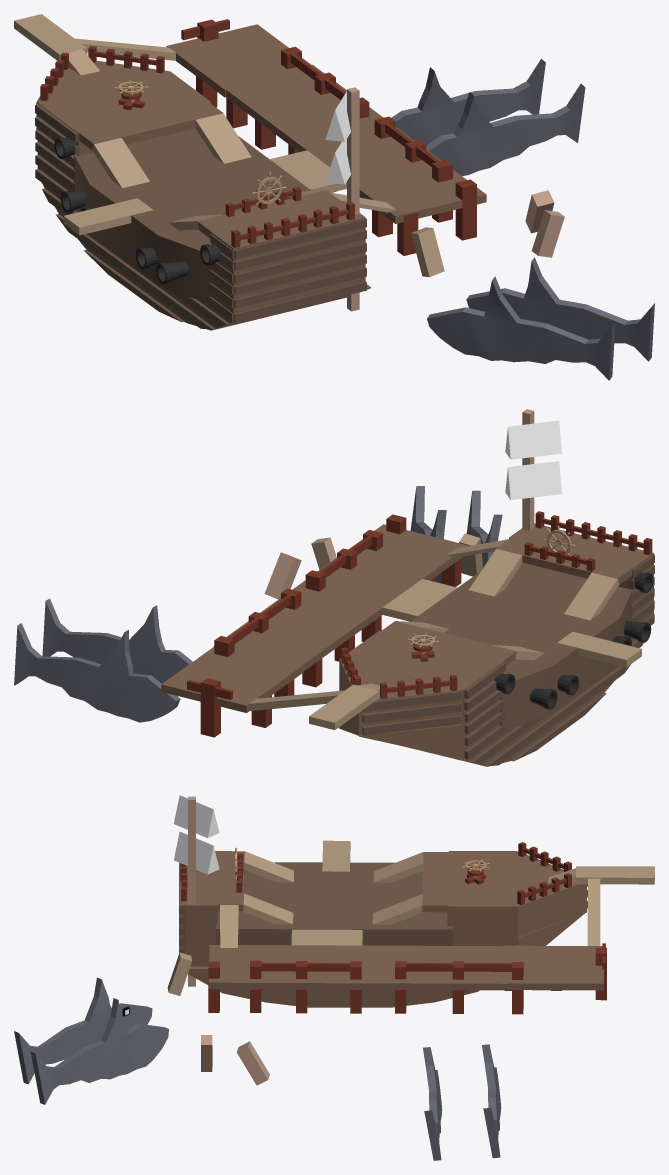
Rendered from Ship_New.fbx.
3 views of the same model, one above another, from view 1: azimuth 30°, elevation 25°; view 2: azimuth 150°, elevation 25°; view 3: azimuth 270°, elevation 25° (orthographic). The views are drawn at different scales.
Visible parts, largest first — view 1: Cube, Cube__2_, Shark__4_, Shark__6_, Cube__10_, Cube__12_, Shark__3_, Shark__5_, Cube__42_, Cube__6_, Cube__7_, PolyShape (+33 smaller); view 2: Cube, Cube__2_, Shark__5_, Cube__10_, Shark__6_, Cube__42_, PolyShape, Cube__12_, Cube__6_, Cube__7_, Sail, Sail_1 (+25 smaller); view 3: Cube, Cube__2_, Cube__10_, Shark__3_, Cube__42_, Shark__4_, PolyShape, Cube.001, Cube__12_, Cube__6_, Cube__11_, Cube__7_ (+17 smaller).
Boxes of the visible parts, left/top/right/bottom form: Cube: left=73, top=128, right=311, bottom=303; Cube__2_: left=222, top=64, right=486, bottom=223; Shark__4_: left=427, top=276, right=615, bottom=380; Shark__6_: left=426, top=83, right=585, bottom=176; Cube__10_: left=37, top=71, right=210, bottom=191; Cube__12_: left=212, top=201, right=365, bottom=321; Shark__3_: left=466, top=257, right=654, bottom=361; Shark__5_: left=391, top=59, right=545, bottom=145; Cube__42_: left=166, top=24, right=311, bottom=97; Cube__6_: left=78, top=101, right=222, bottom=149; Cube__7_: left=197, top=190, right=341, bottom=238; PolyShape: left=38, top=60, right=168, bottom=102; Cube: left=410, top=563, right=632, bottom=731; Cube__2_: left=213, top=524, right=468, bottom=670; Shark__5_: left=14, top=623, right=180, bottom=722; Cube__10_: left=339, top=630, right=503, bottom=759; Shark__6_: left=42, top=598, right=192, bottom=696; Cube__42_: left=161, top=647, right=303, bottom=712; PolyShape: left=339, top=659, right=463, bottom=735; Cube__12_: left=509, top=523, right=653, bottom=622; Cube__6_: left=380, top=621, right=516, bottom=665; Cube__7_: left=496, top=537, right=632, bottom=584; Sail: left=505, top=420, right=561, bottom=459; Sail_1: left=505, top=461, right=561, bottom=499; Cube: left=215, top=862, right=452, bottom=945; Cube__2_: left=208, top=945, right=509, bottom=990; Cube__10_: left=447, top=851, right=586, bottom=945; Shark__3_: left=30, top=998, right=168, bottom=1104; Cube__42_: left=502, top=945, right=603, bottom=990; Shark__4_: left=14, top=977, right=152, bottom=1084; PolyShape: left=517, top=855, right=586, bottom=936; Cube.001: left=188, top=966, right=479, bottom=1007; Cube__12_: left=179, top=851, right=217, bottom=966; Cube__6_: left=422, top=852, right=450, bottom=912; Cube__11_: left=576, top=866, right=654, bottom=884; Cube__7_: left=216, top=851, right=244, bottom=911.
Bounding box in the file's own units: 7614 × 3307 × 8772.
